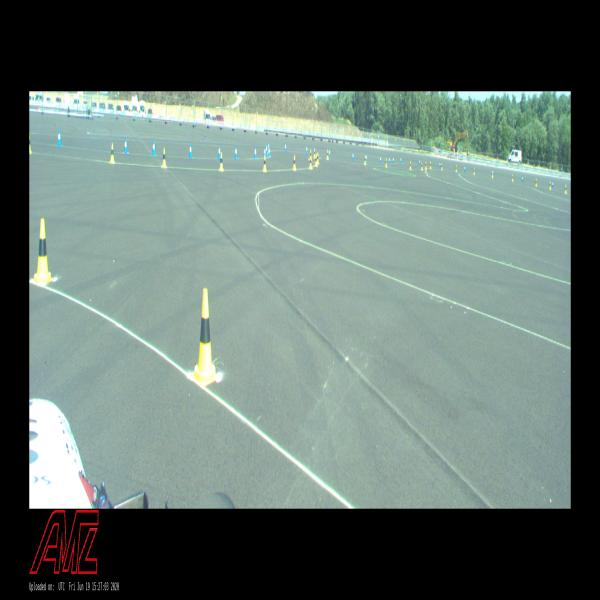blue_cone: (57, 129, 62, 147), (188, 143, 193, 158), (124, 137, 128, 154), (152, 139, 156, 156), (218, 144, 222, 159), (234, 146, 238, 159), (254, 146, 257, 159), (264, 146, 266, 159), (392, 156, 395, 164), (268, 146, 270, 157), (284, 142, 286, 152), (306, 144, 308, 154), (352, 151, 354, 161), (266, 144, 268, 154), (464, 164, 466, 173), (552, 179, 554, 188), (366, 153, 368, 162), (439, 160, 441, 169), (491, 169, 494, 175), (388, 156, 390, 164), (522, 174, 524, 182), (400, 156, 402, 164), (268, 142, 270, 149), (380, 154, 381, 164), (329, 149, 330, 158), (419, 158, 420, 166)
yellow_cone: (192, 288, 218, 386), (33, 218, 52, 284), (110, 143, 115, 163), (219, 152, 224, 171), (162, 148, 166, 168), (263, 154, 267, 172), (292, 155, 296, 170), (29, 134, 32, 153), (308, 155, 312, 169), (314, 154, 317, 166), (326, 149, 329, 160), (409, 160, 412, 171), (564, 184, 567, 194), (313, 148, 316, 158), (511, 174, 514, 183), (317, 152, 319, 164), (455, 164, 458, 172), (491, 171, 494, 179), (310, 149, 312, 160), (385, 157, 387, 168), (430, 160, 432, 170), (473, 166, 475, 176), (549, 180, 551, 190), (364, 155, 366, 165), (535, 178, 537, 187), (425, 160, 427, 169), (421, 161, 423, 170), (441, 162, 443, 171)
